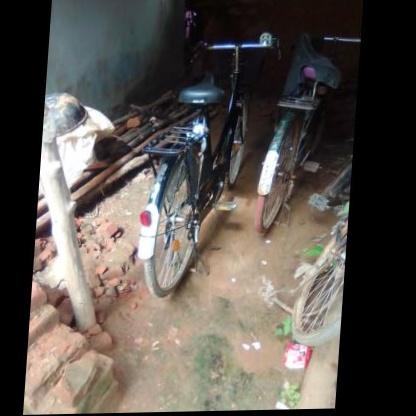Bicycle: (109, 23, 248, 296), (252, 23, 346, 234)
